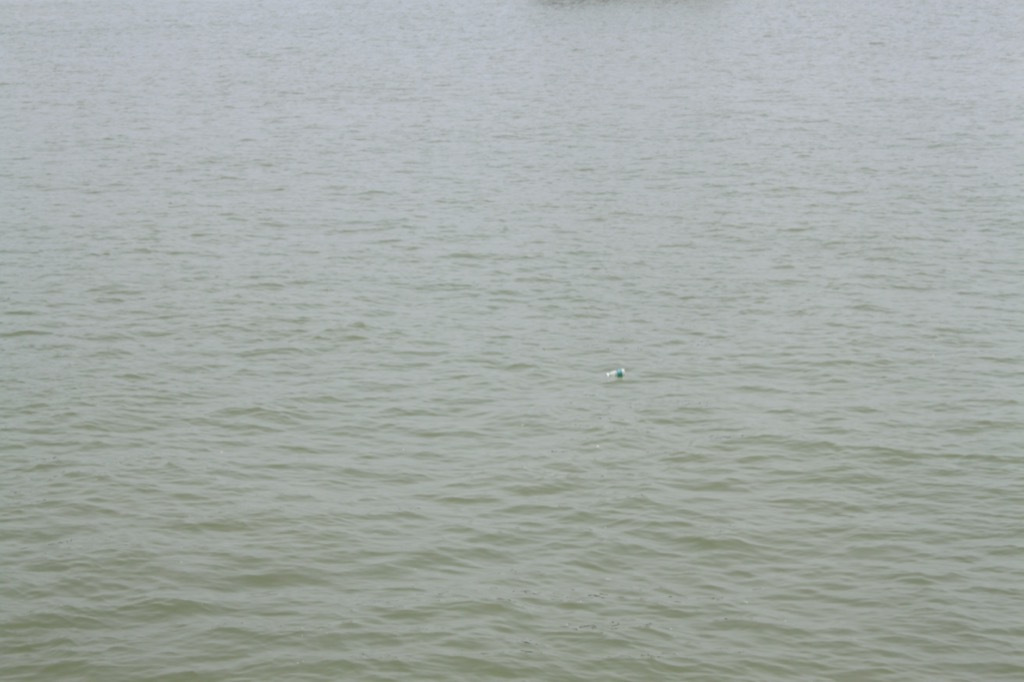plastic: (595, 358, 642, 394)
